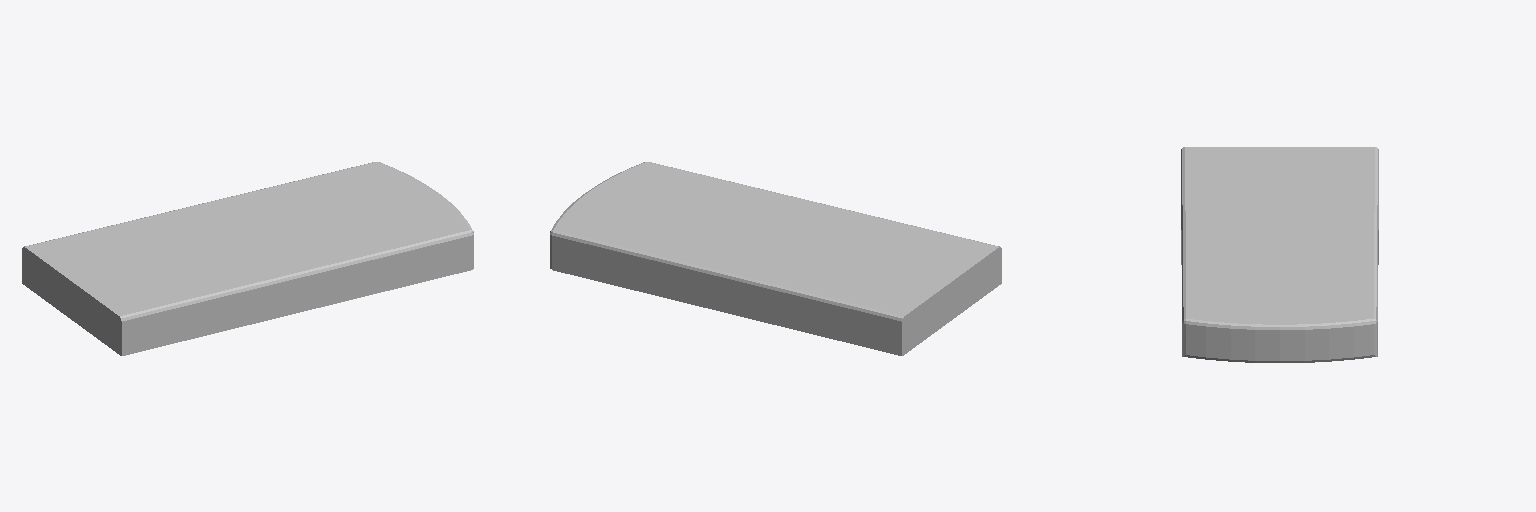
The model's file is WoodBoard_Texture.obj.
The picture shows the model from 3 angles: view 1: azimuth 30°, elevation 25°; view 2: azimuth 150°, elevation 25°; view 3: azimuth 270°, elevation 25°; orthographic projection.
Visible parts, largest first — view 1: DockBoard01 Dock; view 2: DockBoard01 Dock; view 3: DockBoard01 Dock.
Boxes of the visible parts, x1,y1,x2,y2 form: DockBoard01 Dock: [22, 162, 473, 355]; DockBoard01 Dock: [550, 162, 1001, 355]; DockBoard01 Dock: [1181, 147, 1378, 362].
Bounding box in the file's own units: 2.14 × 0.214 × 1.